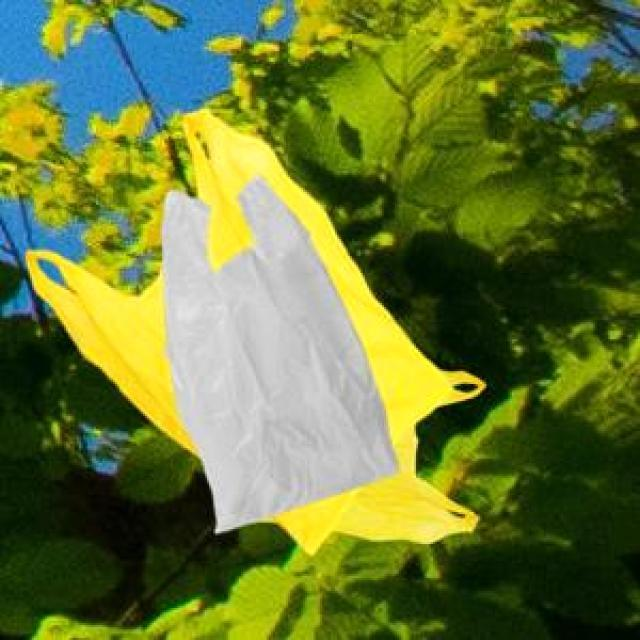Plastic_Bag: (22, 106, 449, 552), (159, 172, 396, 530), (328, 368, 483, 541)
